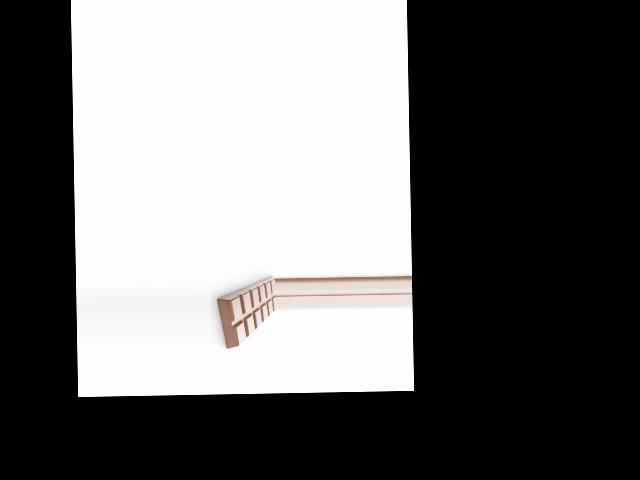chocolate: (214, 271, 275, 349)
